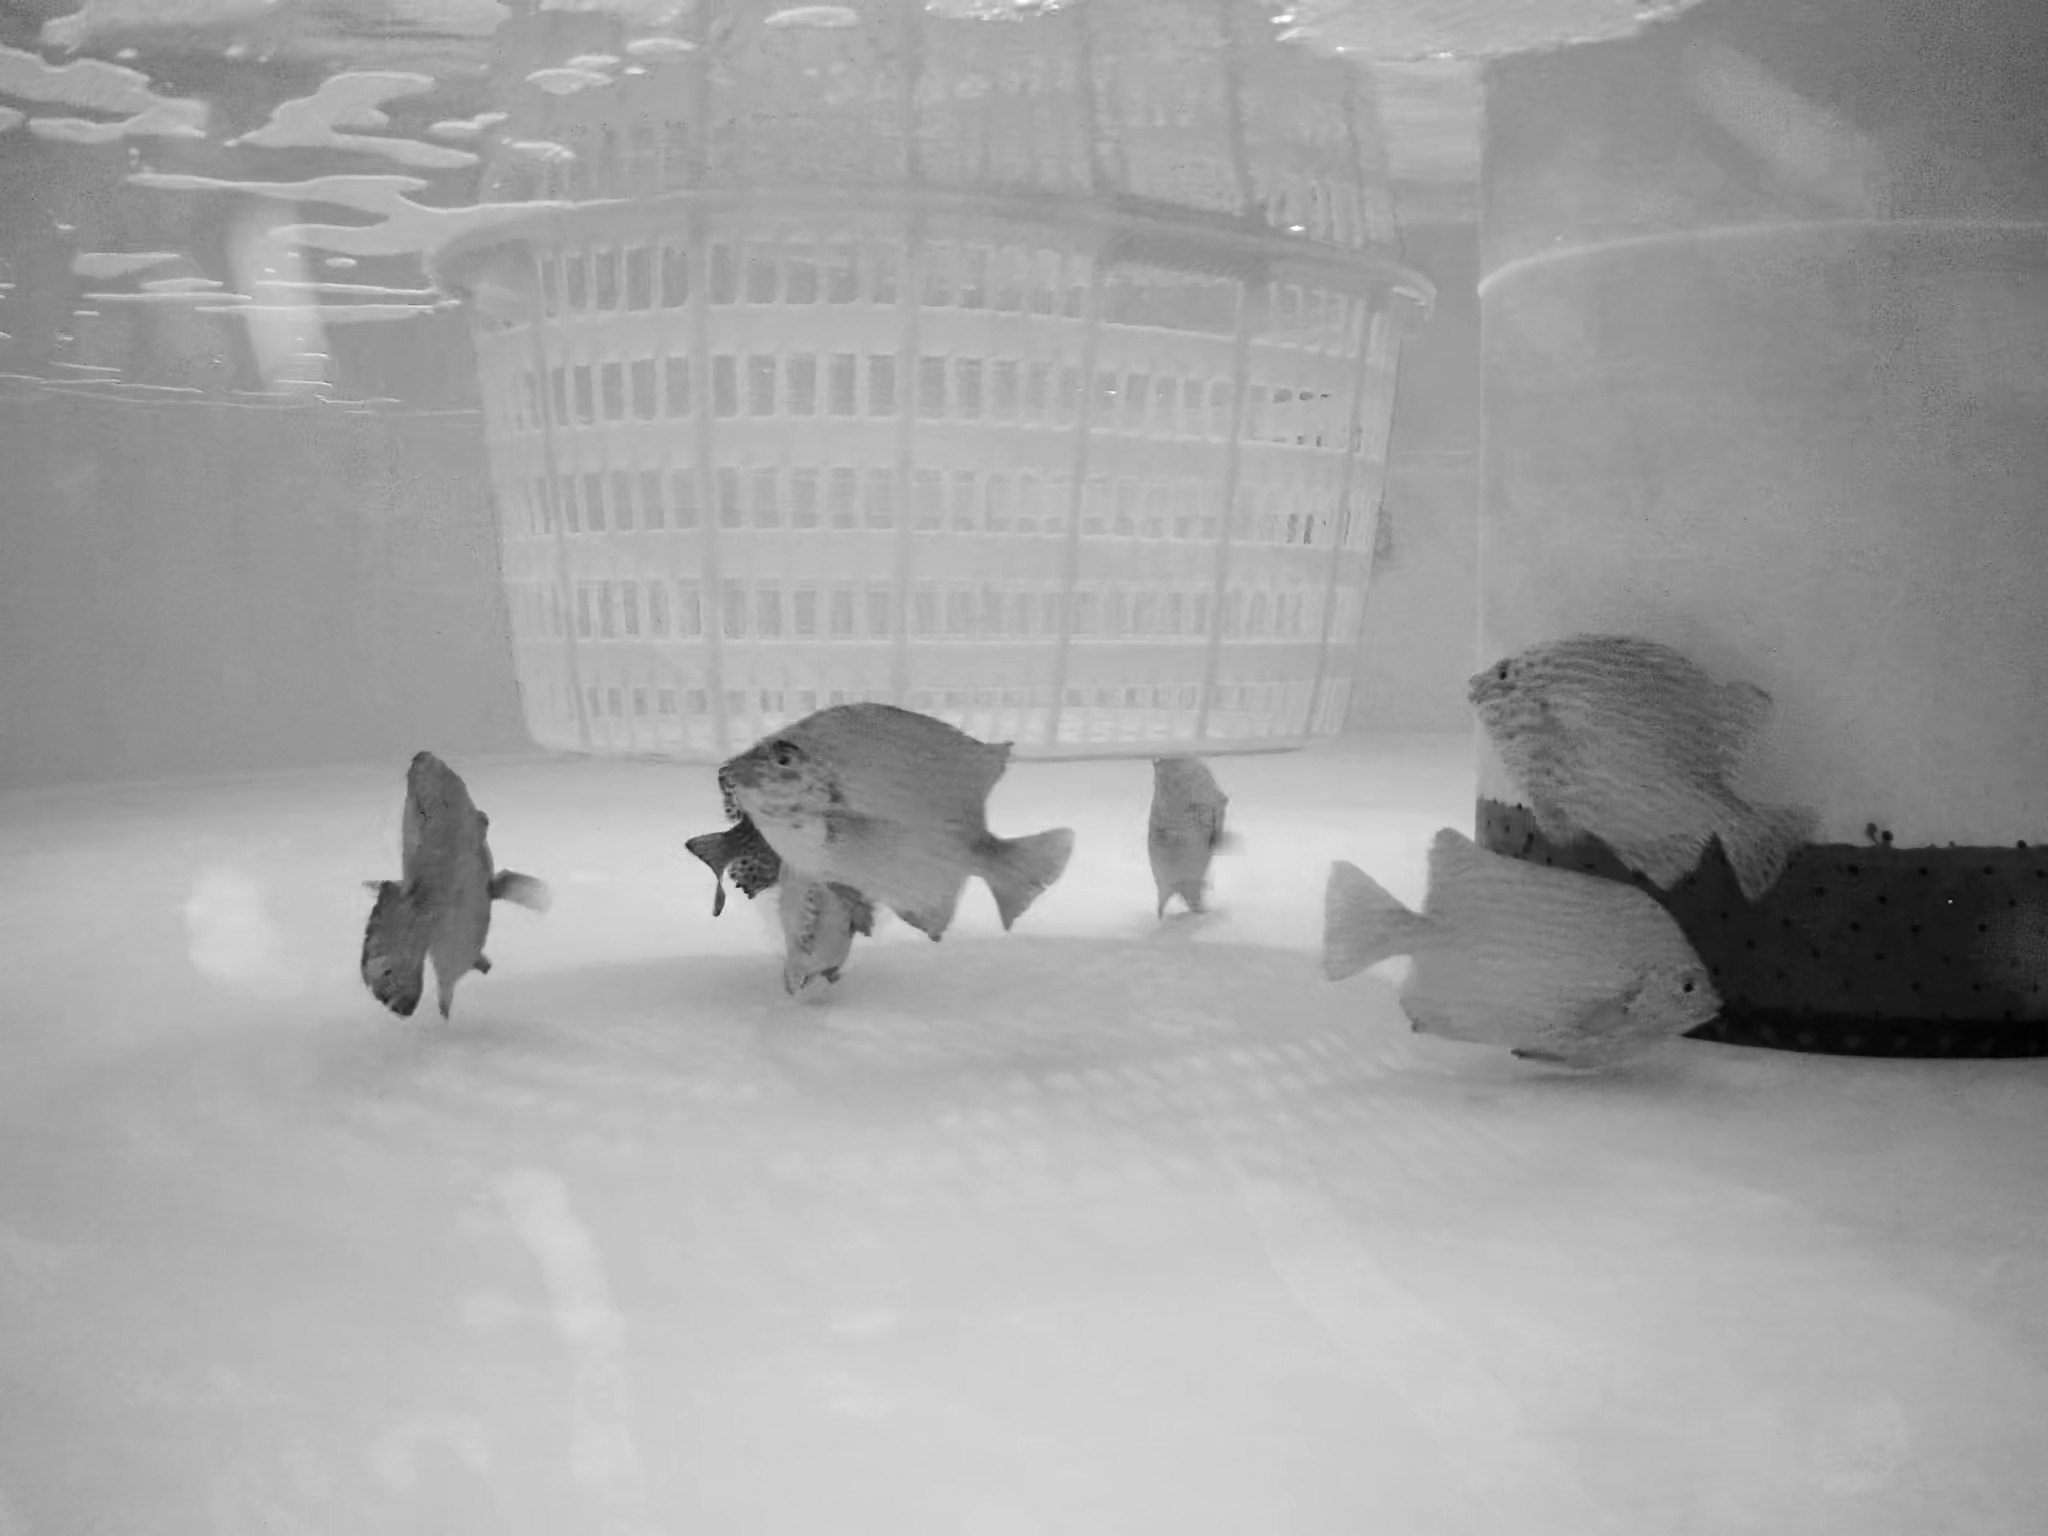fish: (1326, 841, 1727, 1081), (1459, 645, 1817, 907), (703, 700, 1071, 933), (356, 749, 542, 1002), (750, 842, 860, 1004), (1142, 744, 1222, 920)
